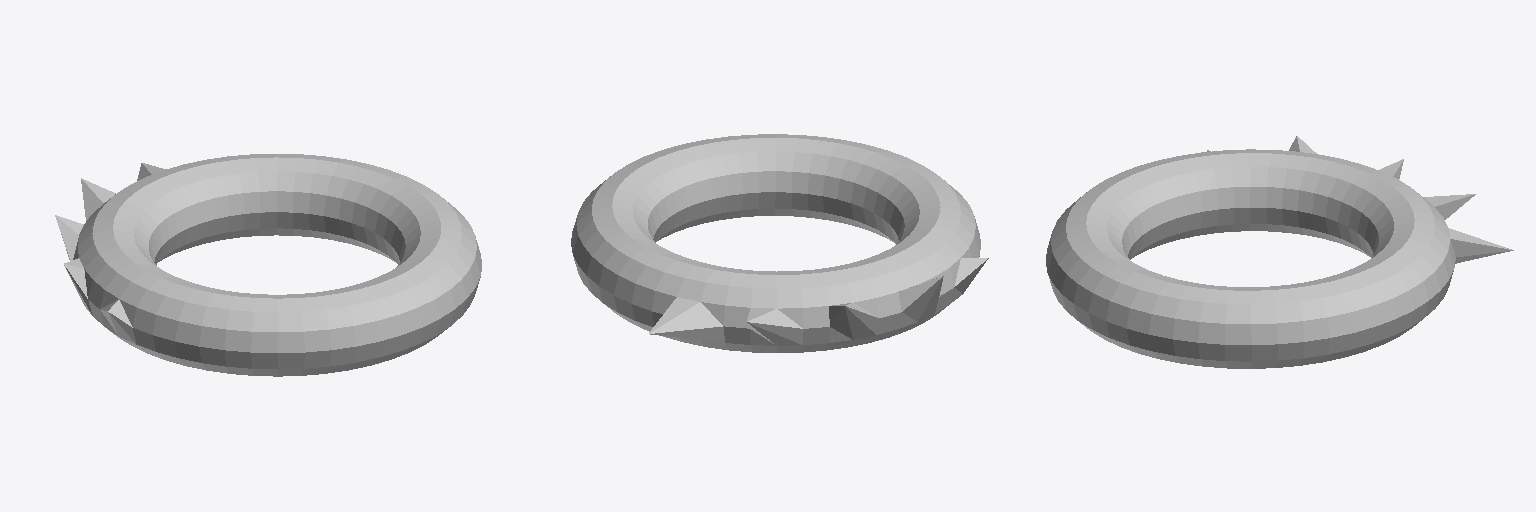
File: someobj.obj
3 views of the same model, side by side, from view 1: azimuth 30°, elevation 25°; view 2: azimuth 150°, elevation 25°; view 3: azimuth 270°, elevation 25° (orthographic).
Parts seen in each view (by area): view 1: Torus; view 2: Torus; view 3: Torus.
Part boxes in pixels (x1,y1,x2,y2): Torus: (55,154,481,376); Torus: (571,134,988,352); Torus: (1046,136,1513,368).
Bounding box in the file's own units: 12.31 × 2.45 × 13.57.